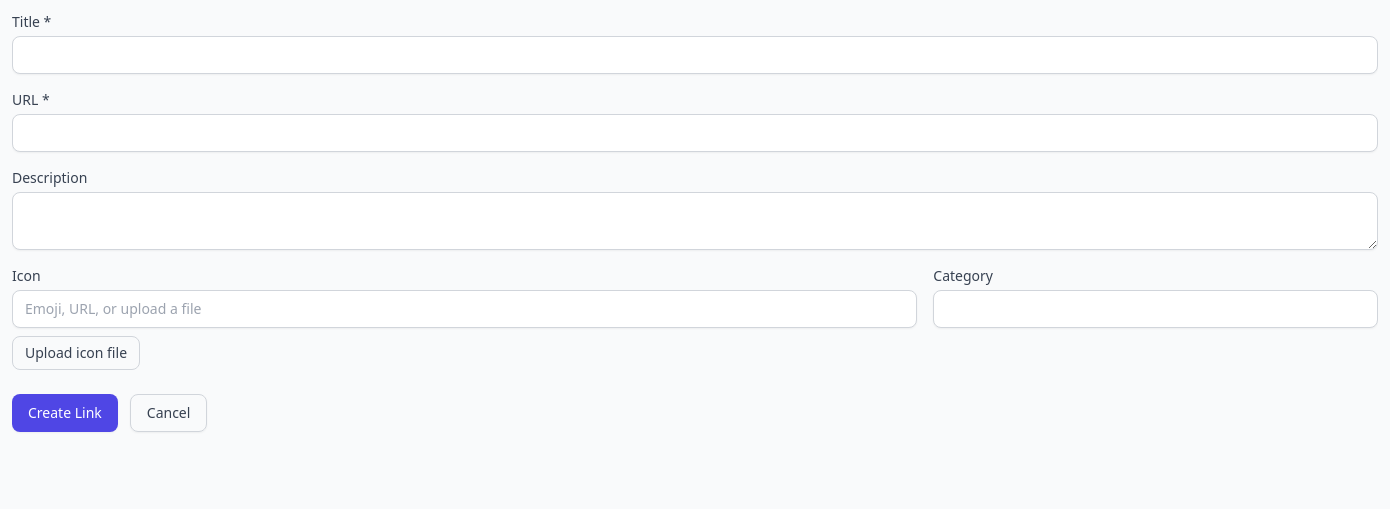
Test: LinkForm › shows error when submit fails
This screenshot has width=1390, height=509.
Step 1. Type "Fail" into the field below "Title *" → (695, 55), box [12,36,1378,74]
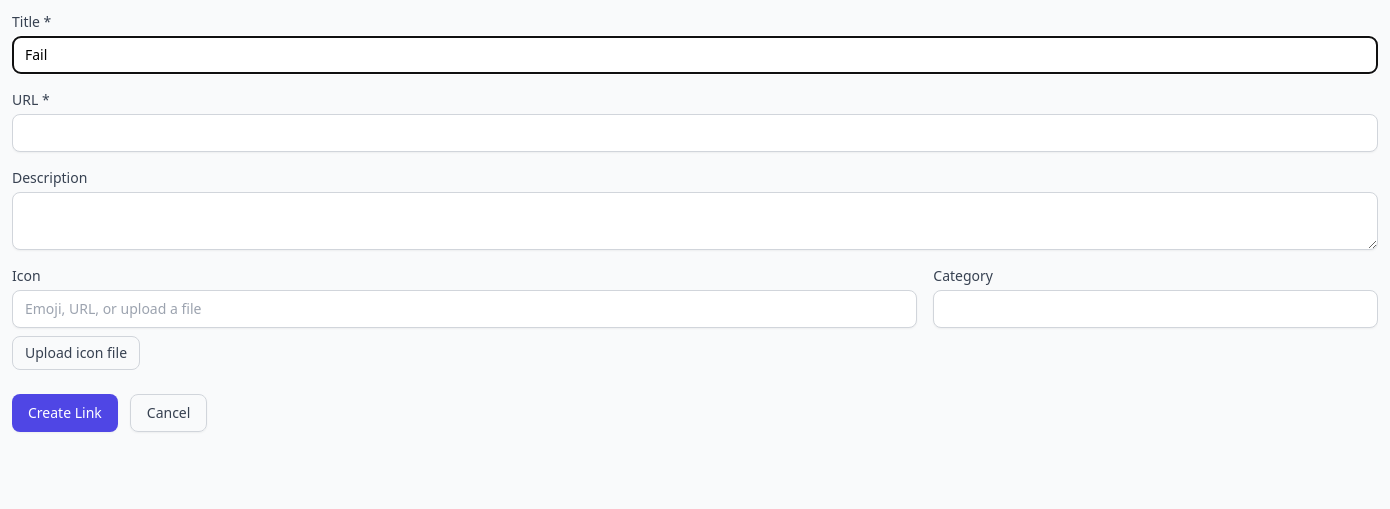
Step 2. Type "https://example.com" into the field below "URL *" → (695, 133), box [12,114,1378,152]
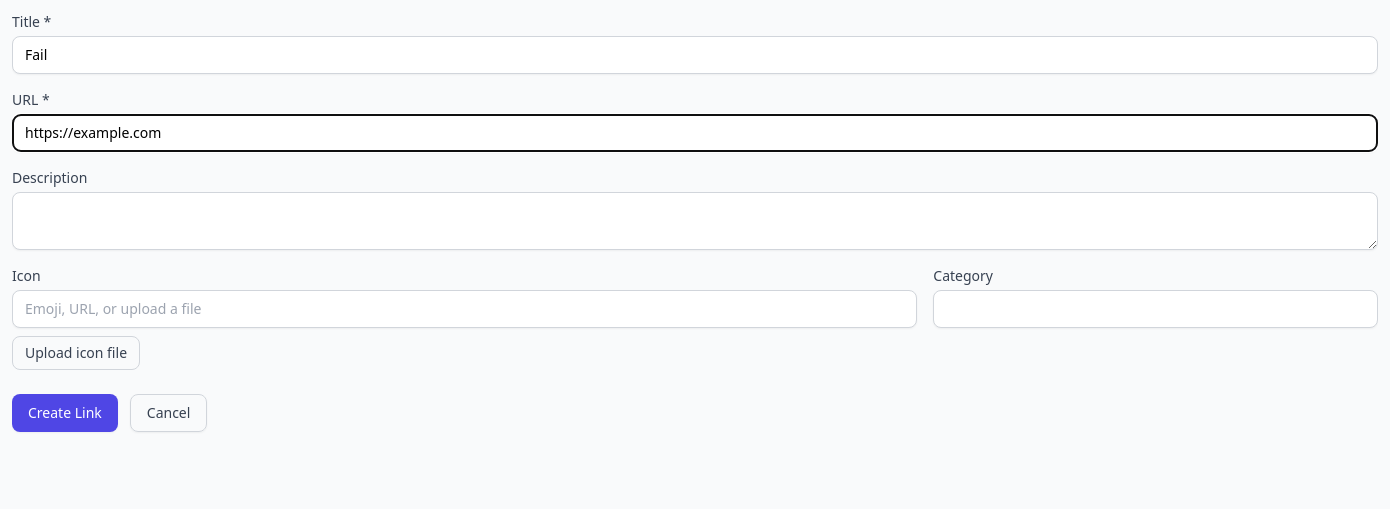
Step 3. Click the button "Create Link" → (65, 413), box [12,394,118,432]
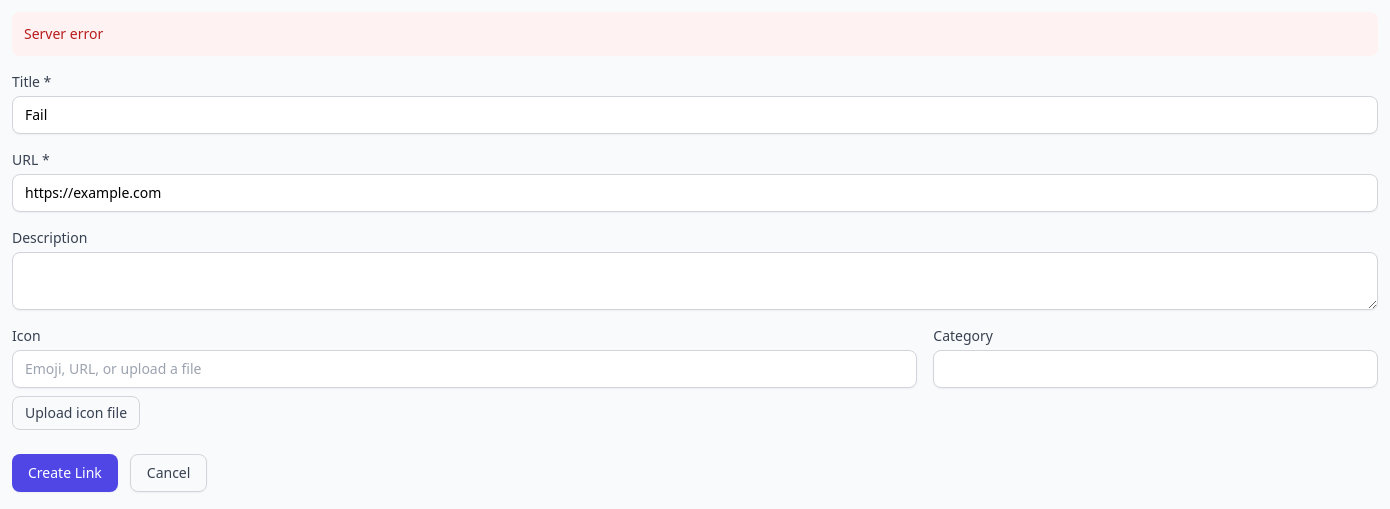
Expected: the text "Server error" is shown, [12,12,1378,56]
